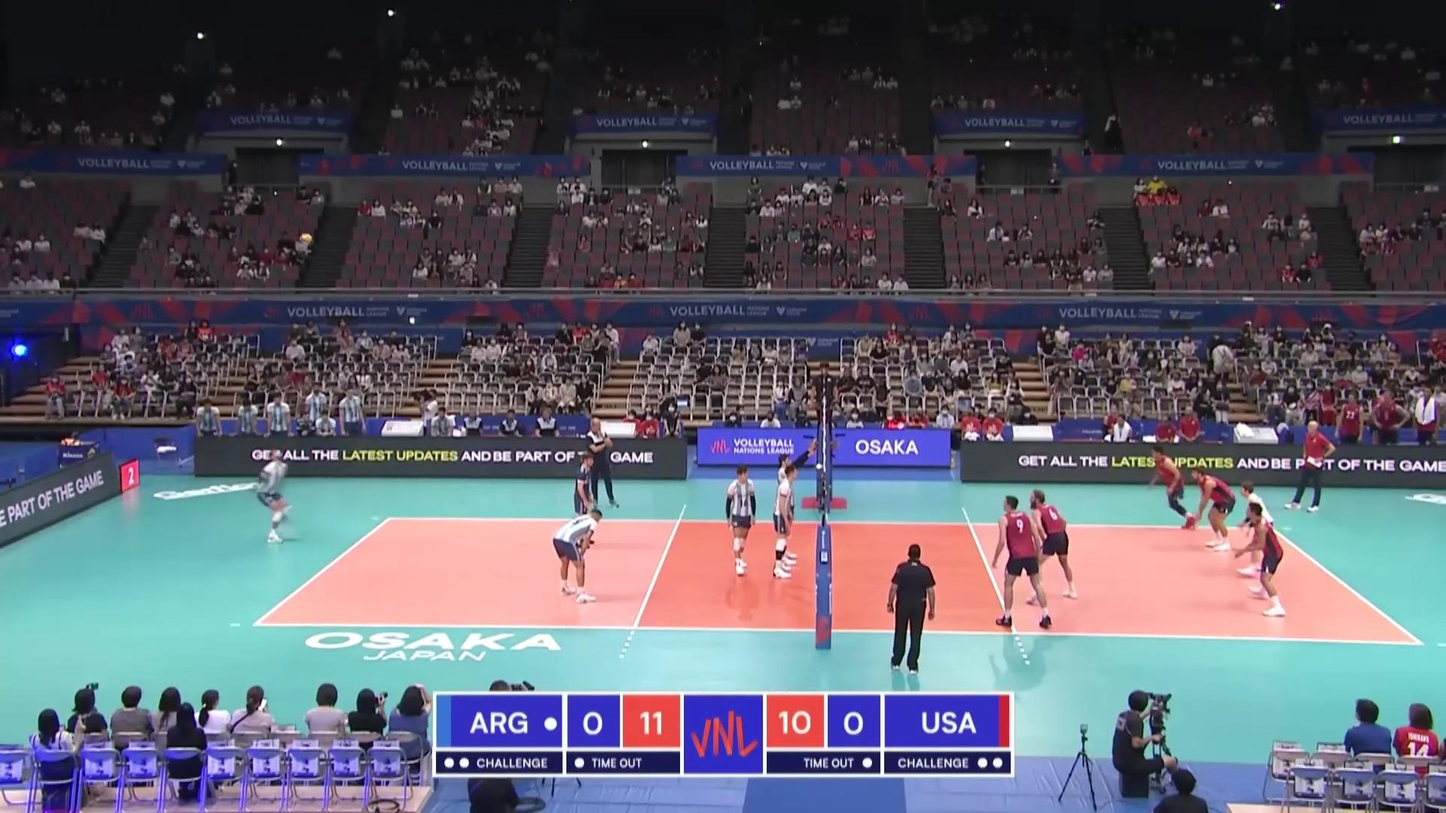player: (995, 498, 1051, 630), (1029, 492, 1076, 604), (1245, 501, 1288, 620), (557, 509, 605, 604), (721, 468, 758, 584), (1193, 467, 1235, 553), (1152, 445, 1194, 531), (1238, 481, 1275, 569), (254, 452, 290, 542), (590, 429, 625, 515), (773, 475, 800, 582), (570, 456, 603, 534)
refree: (885, 547, 936, 674), (807, 365, 837, 448), (805, 399, 830, 450)
